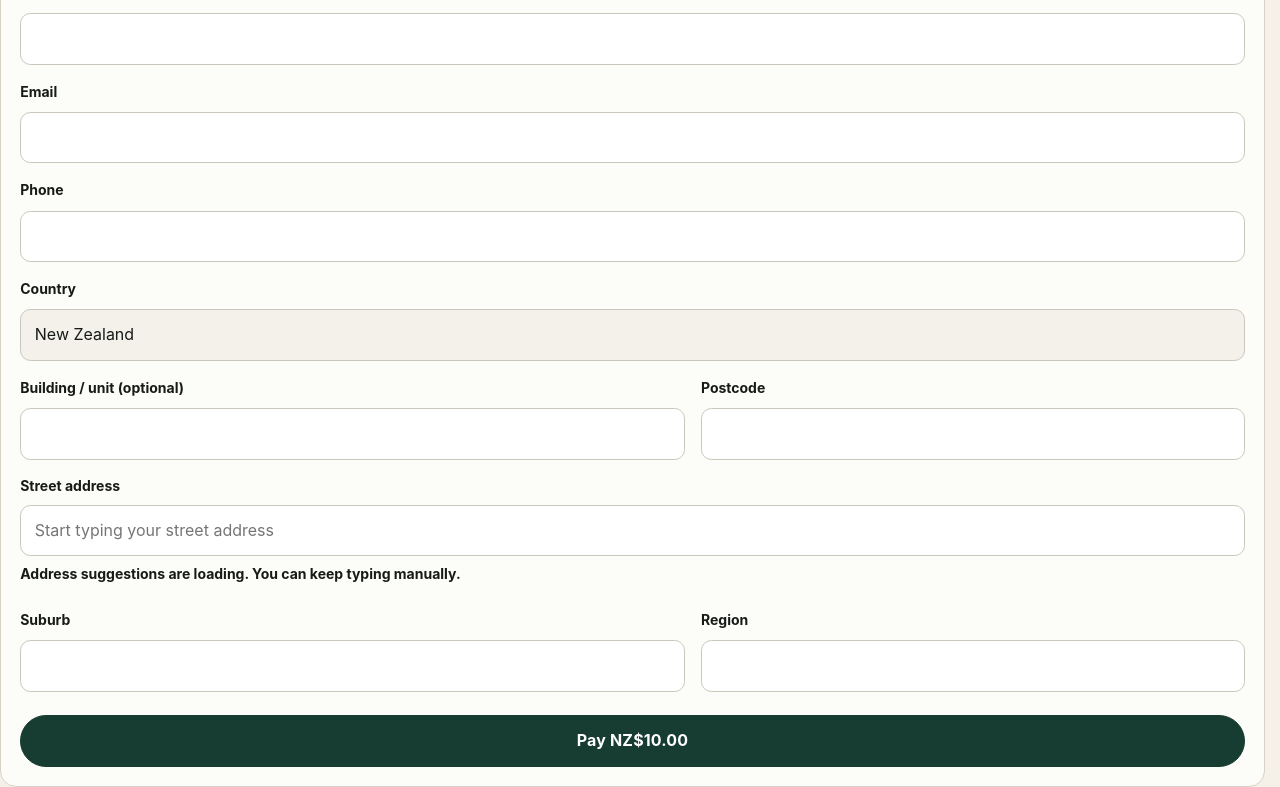
PaymentRequestView › uses Google address suggestions to fill the Afterpay address
(page scrolled)
Type "11 Para" into the dropdown labelled "Street address" at (632, 531), box [20,505,1245,556]
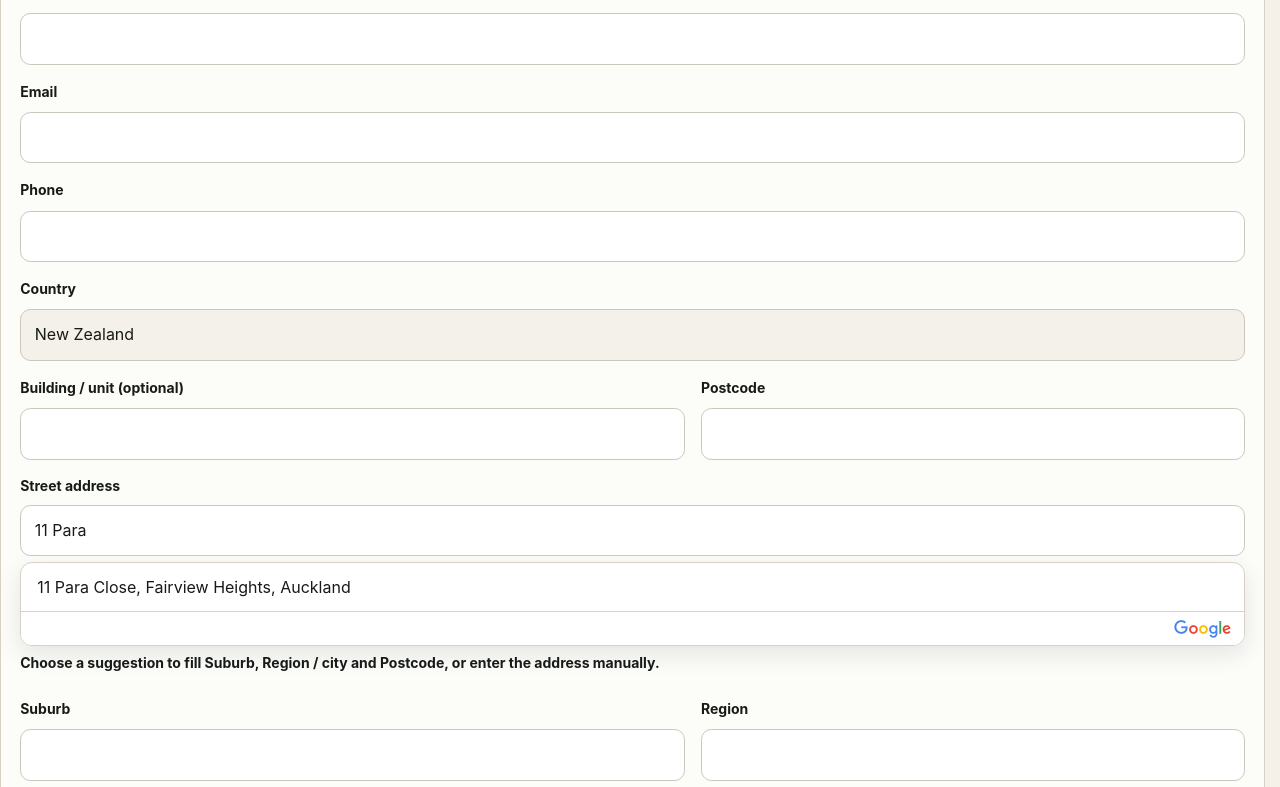
Click the option "11 Para Close, Fairview Heights, Auckland" at (194, 587), box [21,564,1244,612]
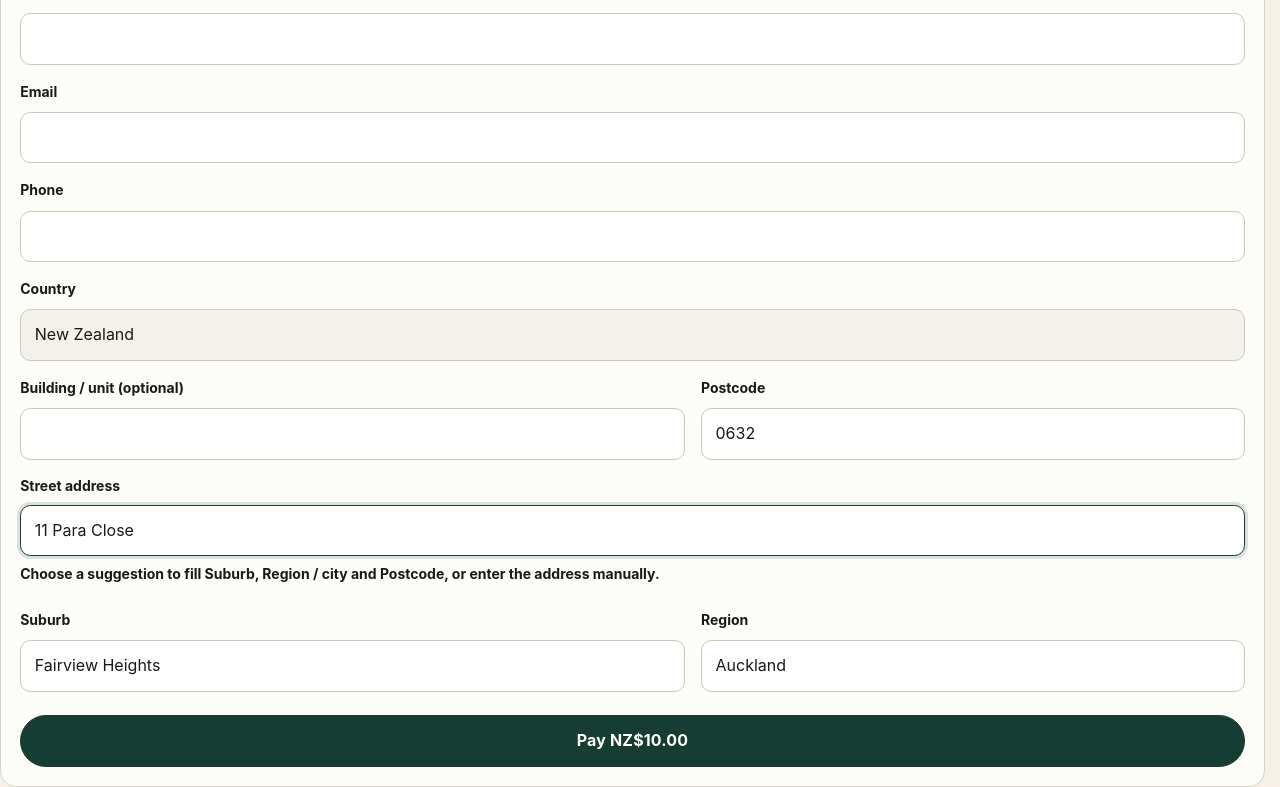
Now the dropdown labelled "Street address" holds "11 Para Close", box [20,505,1245,556]
Now the field labelled "Suburb" holds "Fairview Heights", box [20,640,685,692]
Now the field labelled "Region" holds "Auckland", box [701,640,1245,692]
